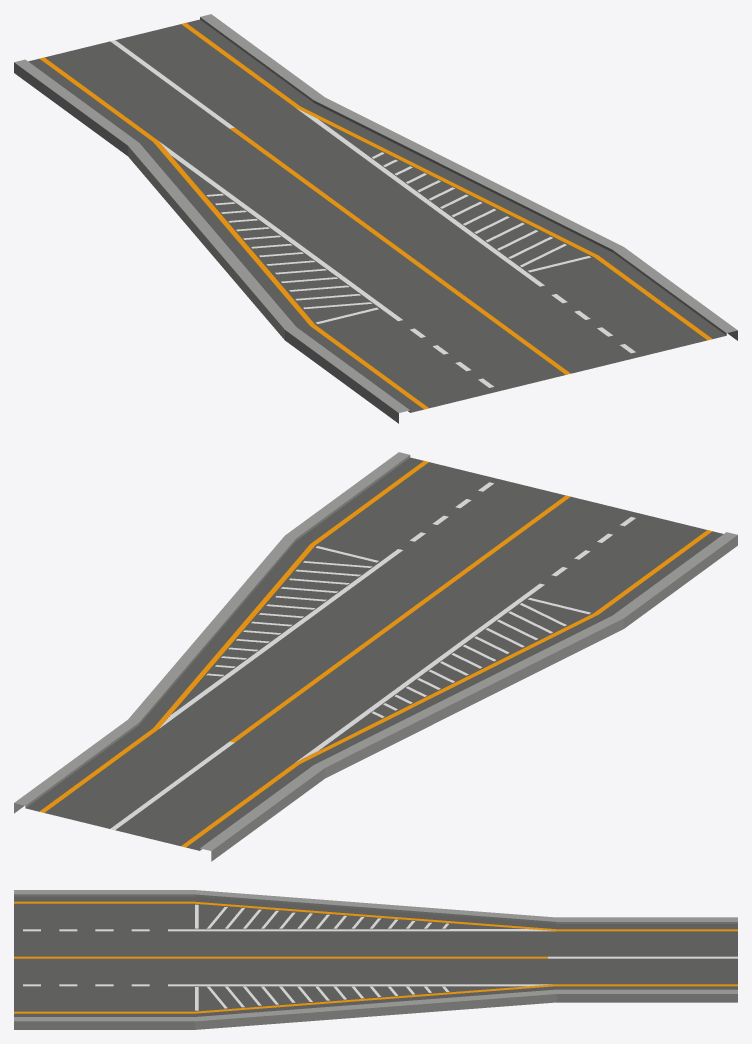
The model's file is Road_B_2L_2_3.fbx.
3 views of the same model, one above another, from view 1: azimuth 30°, elevation 25°; view 2: azimuth 150°, elevation 25°; view 3: azimuth 270°, elevation 25° (orthographic). The views are drawn at different scales.
Parts seen in each view (by area): view 1: Road_B_2L_2_3; view 2: Road_B_2L_2_3; view 3: Road_B_2L_2_3.
Boxes of the visible parts, bbox=[...] form: Road_B_2L_2_3: bbox=[14, 14, 737, 423]; Road_B_2L_2_3: bbox=[14, 452, 737, 861]; Road_B_2L_2_3: bbox=[14, 890, 737, 1029].
Bounding box in the file's own units: 1375 × 41.48 × 3200.
